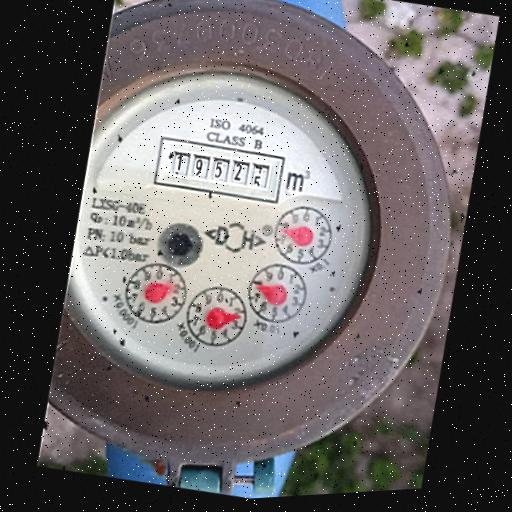1: (170, 151, 190, 178)
2: (231, 161, 249, 185)
4: (250, 164, 269, 188)
5: (211, 157, 231, 183)
9: (191, 154, 211, 180)
border_water_meter_number: (150, 129, 287, 210)
